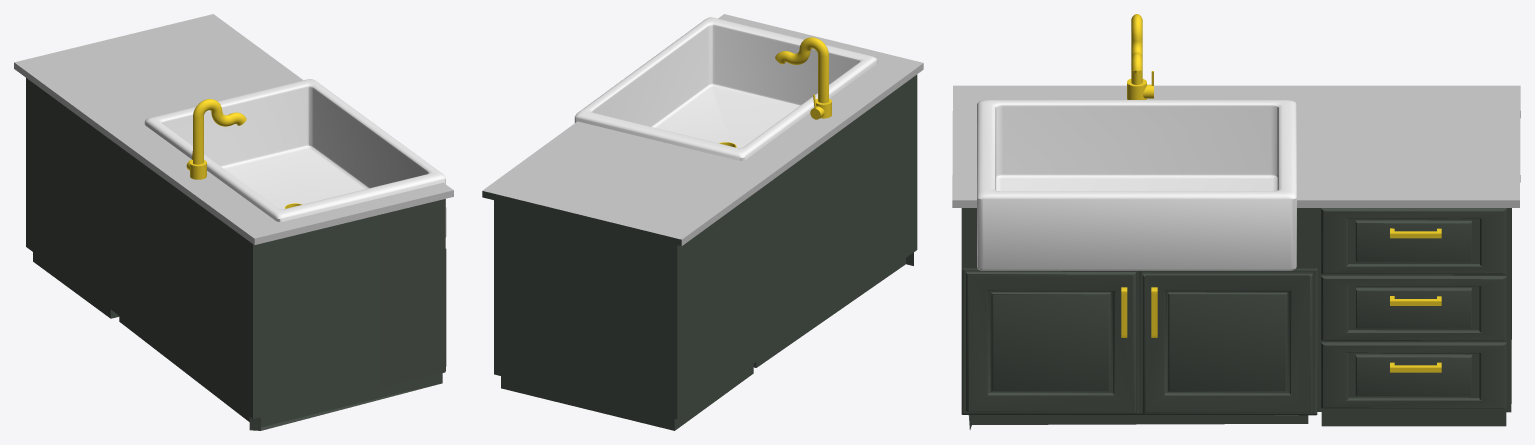
Rendered from Lavabo.fbx.
3 renders of one model, left to right at view 1: azimuth 30°, elevation 25°; view 2: azimuth 150°, elevation 25°; view 3: azimuth 270°, elevation 25°, orthographic. The views are drawn at different scales.
Visible parts, largest first — view 1: DrawerUnit.003; view 2: DrawerUnit.003; view 3: DrawerUnit.003.
Part boxes in pixels (x1=…): DrawerUnit.003: x1=14, y1=14, x2=453, y2=430; DrawerUnit.003: x1=482, y1=14, x2=923, y2=430; DrawerUnit.003: x1=952, y1=14, x2=1520, y2=429.
Size of the model in its own units: 108 by 138 by 221.
